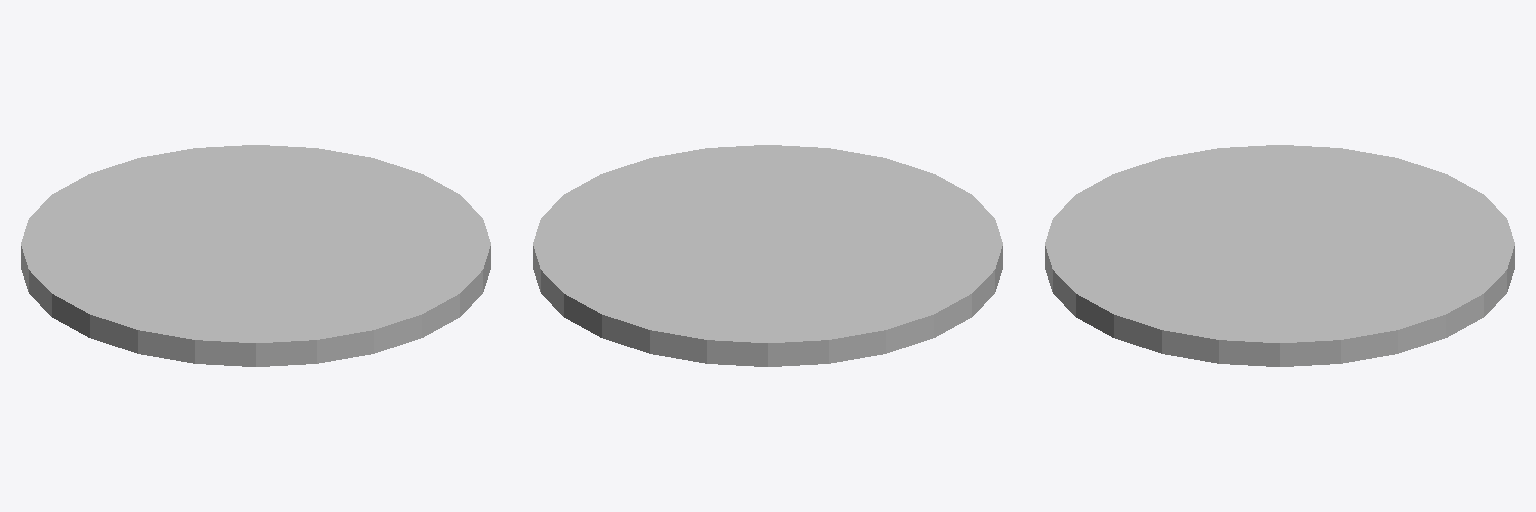
File: ArenaPlane.obj
3 renders of one model, left to right at view 1: azimuth 30°, elevation 25°; view 2: azimuth 150°, elevation 25°; view 3: azimuth 270°, elevation 25°, orthographic.
Visible parts, largest first — view 1: SketchUp_ID11; view 2: SketchUp_ID11; view 3: SketchUp_ID11.
Boxes of the visible parts, x1=… form: SketchUp_ID11: x1=21, y1=145, x2=490, y2=366; SketchUp_ID11: x1=533, y1=145, x2=1002, y2=366; SketchUp_ID11: x1=1045, y1=145, x2=1514, y2=366.
Bounding box in the file's own units: 106 × 5.95 × 106.